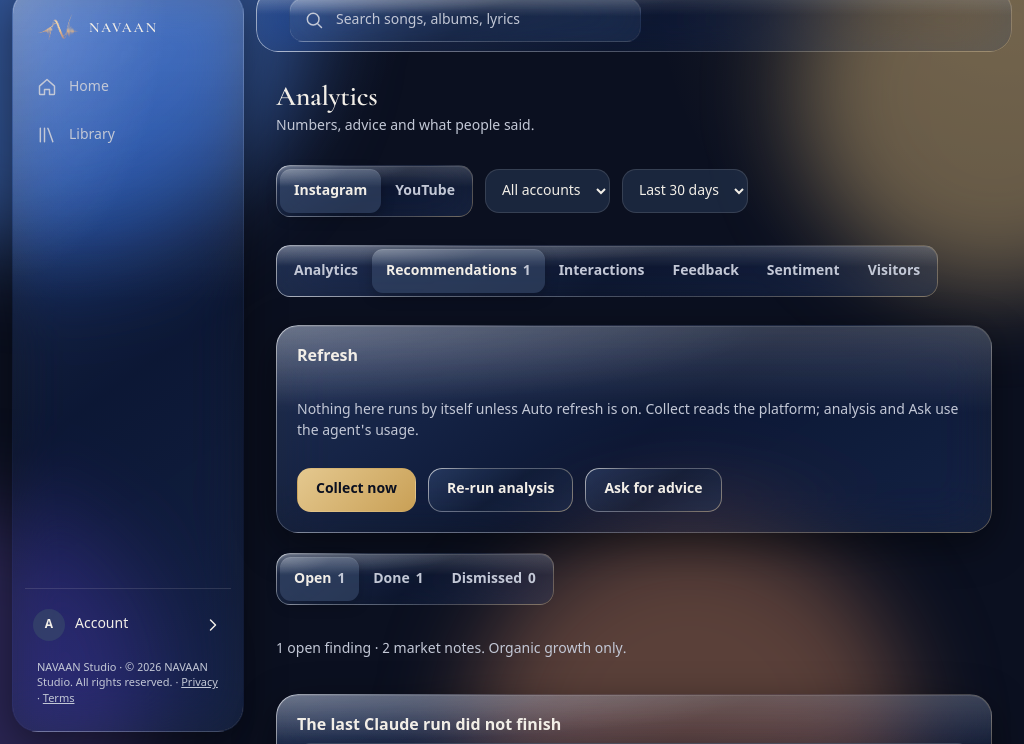
Scenario: Studio > Analytics > audience and what works (NAV-29) › recommendations: what changed after one was done, Claude's sources, and a Claude run that did not finish
expect the text "1 open finding · 2 market notes. Organic growth only." is shown: met, box [276, 640, 626, 659]
expect the heading "The last Claude run did not finish" is shown: met, box [297, 716, 561, 737]
Click the button "Done 1".
click(398, 579)  # box [359, 557, 437, 601]
(page scrolled)
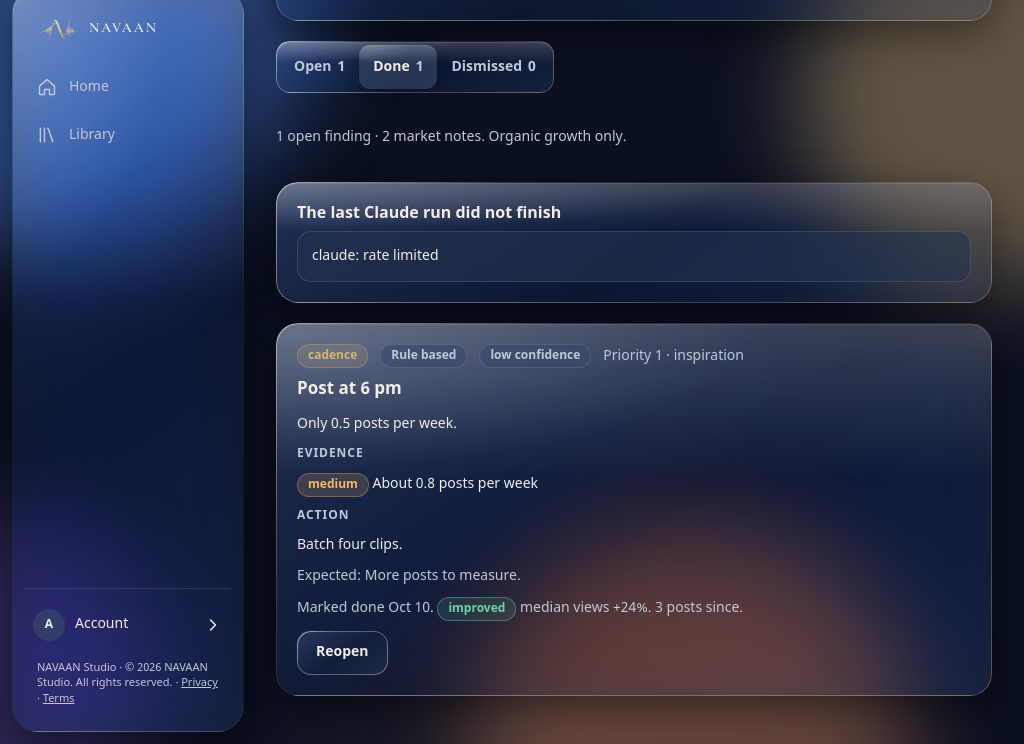
expect the text "improved" is shown: met, box [437, 597, 516, 621]
expect the text "median views +24%. 3 posts since" is shown: met, box [297, 597, 743, 621]
